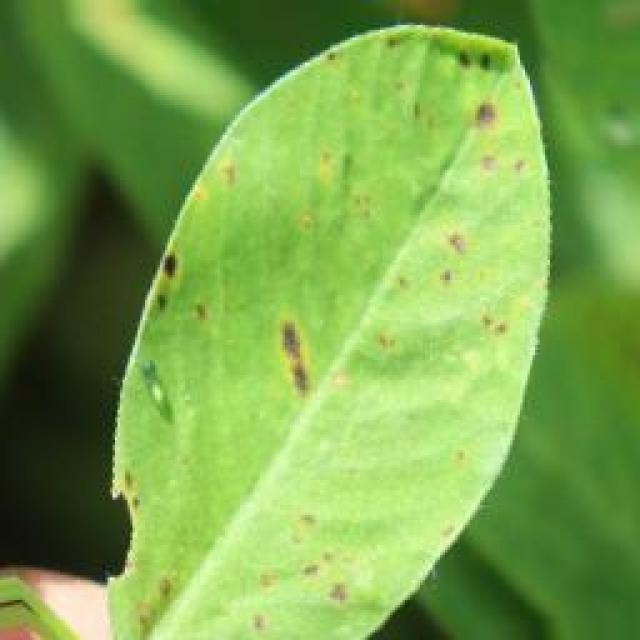Sigatoka: (458, 81, 554, 217), (137, 246, 231, 350), (298, 141, 397, 236), (292, 508, 362, 618), (256, 326, 327, 431), (188, 152, 274, 230), (470, 301, 555, 374), (397, 71, 462, 159), (402, 220, 477, 294), (373, 311, 438, 384), (124, 553, 192, 620), (101, 466, 169, 526), (225, 570, 287, 634), (450, 413, 502, 486), (434, 32, 507, 84), (320, 36, 349, 82)
